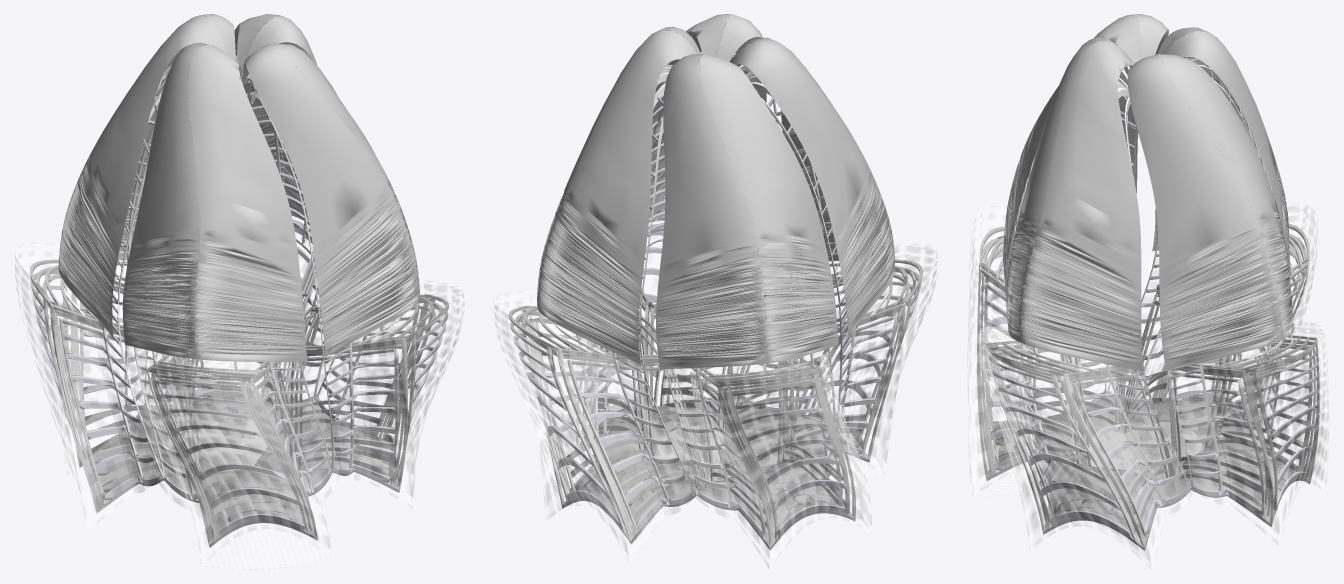
The picture shows the model from 3 angles, left to right: view 1: azimuth 30°, elevation 25°; view 2: azimuth 150°, elevation 25°; view 3: azimuth 270°, elevation 25°; orthographic projection.
Parts seen in each view (by area): view 1: SKINUST, SKIN, DIKEY (×2), FUL YATAY, KIRIS, FLOOR, Merged Objects 9, KARO; view 2: SKINUST, SKIN, DIKEY (×2), FUL YATAY, KIRIS, FLOOR, KARO, Merged Objects 9; view 3: SKINUST, SKIN, DIKEY (×2), FUL YATAY, KIRIS, FLOOR, KARO, Merged Objects 9.
Part boxes in pixels (left/top/right/bottom): SKINUST: left=58, top=14, right=420, bottom=361; SKIN: left=14, top=216, right=464, bottom=564; DIKEY (×2): left=43, top=56, right=435, bottom=544; FUL YATAY: left=32, top=55, right=446, bottom=536; KIRIS: left=30, top=212, right=448, bottom=525; FLOOR: left=79, top=391, right=399, bottom=547; Merged Objects 9: left=186, top=420, right=329, bottom=569; KARO: left=88, top=390, right=389, bottom=524; SKINUST: left=537, top=14, right=894, bottom=369; SKIN: left=493, top=199, right=938, bottom=569; DIKEY (×2): left=520, top=49, right=911, bottom=547; FUL YATAY: left=513, top=51, right=918, bottom=537; KIRIS: left=509, top=216, right=922, bottom=529; FLOOR: left=562, top=396, right=869, bottom=550; KARO: left=579, top=406, right=854, bottom=527; Merged Objects 9: left=655, top=426, right=884, bottom=482; SKINUST: left=1003, top=14, right=1293, bottom=371; SKIN: left=967, top=203, right=1329, bottom=568; DIKEY (×2): left=977, top=57, right=1319, bottom=547; FUL YATAY: left=979, top=65, right=1318, bottom=539; KIRIS: left=979, top=224, right=1317, bottom=527; FLOOR: left=986, top=396, right=1310, bottom=550; KARO: left=994, top=397, right=1296, bottom=534; Merged Objects 9: left=970, top=422, right=1208, bottom=496.
Bounding box in the file's own units: 56.51 × 79.13 × 56.52.
9 materials, 3 textured.
